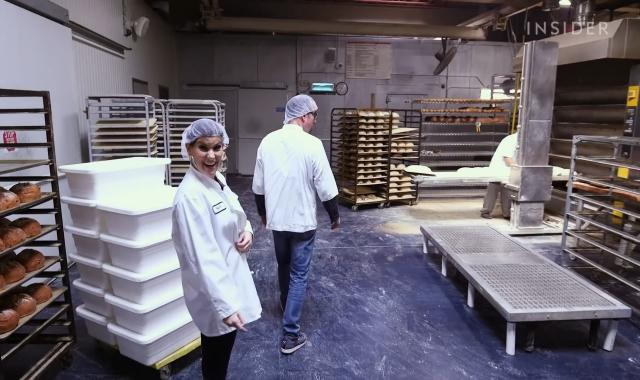hairnet: (181, 119, 234, 150), (282, 96, 318, 123)
